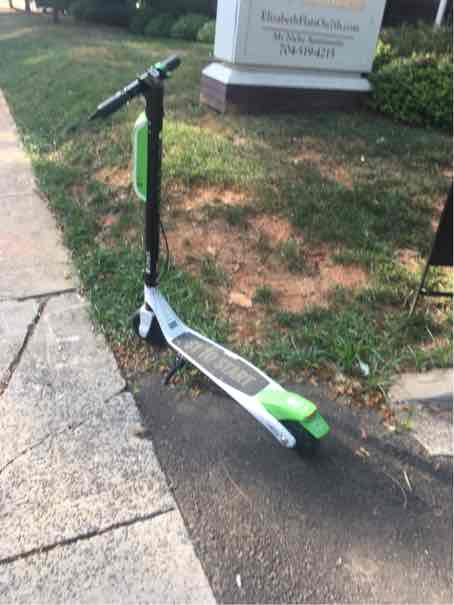scooter: (82, 49, 326, 461)
